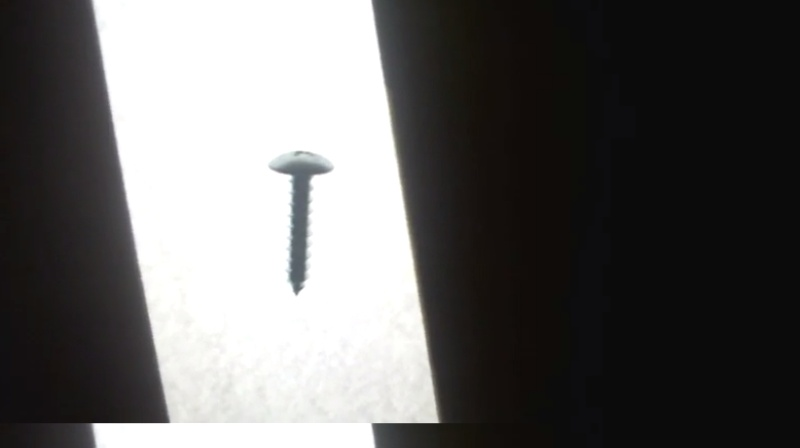S003: (264, 144, 339, 298)
